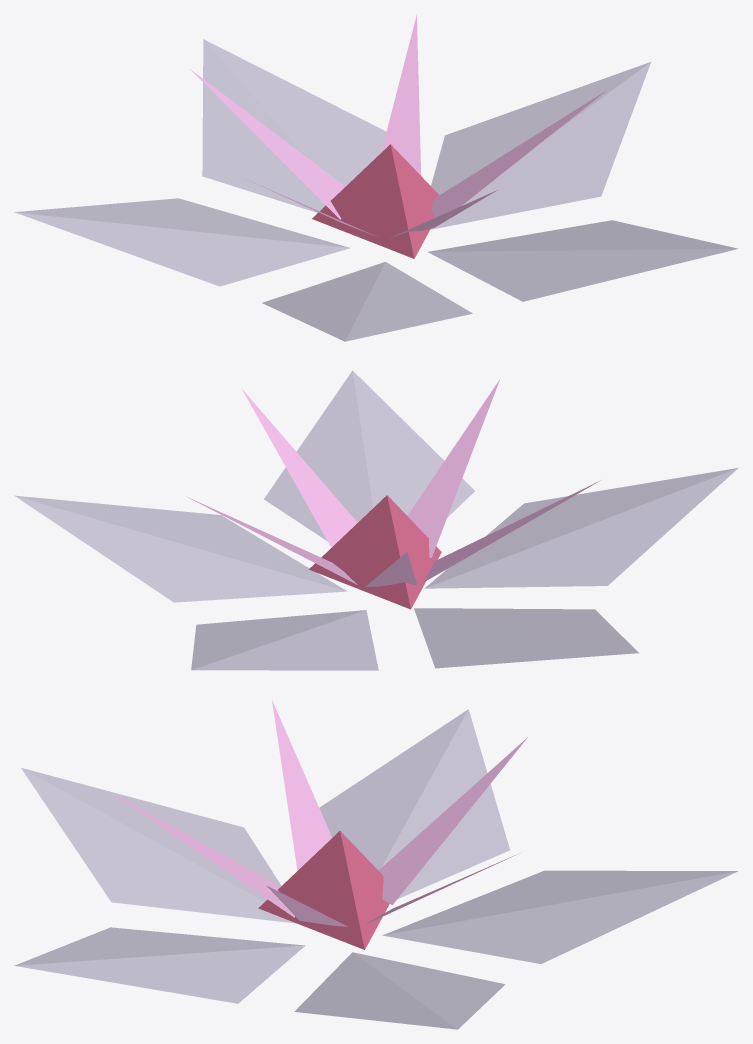
Rendered from plant_lotus_a.obj.
The picture shows the model from 3 angles, top to bottom: view 1: azimuth 30°, elevation 25°; view 2: azimuth 150°, elevation 25°; view 3: azimuth 270°, elevation 25°; orthographic projection. The views are drawn at different scales.
Visible parts, largest first — view 1: plant_lotus_a_0, plant_lotus_a_5, plant_lotus_a_3, plant_lotus_a_8, plant_lotus_a_2, plant_lotus_a_15, plant_lotus_a_1, plant_lotus_a_4, plant_lotus_a_9, plant_lotus_a_7, plant_lotus_a_6, plant_lotus_a_10 (+3 smaller); view 2: plant_lotus_a_6, plant_lotus_a_1, plant_lotus_a_9, plant_lotus_a_0, plant_lotus_a_7, plant_lotus_a_15, plant_lotus_a_8, plant_lotus_a_4, plant_lotus_a_3, plant_lotus_a_5, plant_lotus_a_2, plant_lotus_a_13 (+4 smaller); view 3: plant_lotus_a_7, plant_lotus_a_2, plant_lotus_a_4, plant_lotus_a_5, plant_lotus_a_9, plant_lotus_a_15, plant_lotus_a_6, plant_lotus_a_3, plant_lotus_a_0, plant_lotus_a_8, plant_lotus_a_1, plant_lotus_a_11 (+3 smaller).
Boxes of the visible parts, x1=… form: plant_lotus_a_0: x1=430, y1=62, x2=650, y2=229; plant_lotus_a_5: x1=15, y1=212, x2=350, y2=286; plant_lotus_a_3: x1=202, y1=39, x2=325, y2=212; plant_lotus_a_8: x1=428, y1=248, x2=738, y2=301; plant_lotus_a_2: x1=203, y1=39, x2=386, y2=186; plant_lotus_a_15: x1=312, y1=144, x2=439, y2=258; plant_lotus_a_1: x1=431, y1=62, x2=650, y2=195; plant_lotus_a_4: x1=14, y1=198, x2=349, y2=247; plant_lotus_a_9: x1=428, y1=220, x2=737, y2=251; plant_lotus_a_7: x1=345, y1=262, x2=472, y2=341; plant_lotus_a_6: x1=262, y1=262, x2=385, y2=341; plant_lotus_a_10: x1=381, y1=14, x2=421, y2=175; plant_lotus_a_6: x1=425, y1=468, x2=738, y2=588; plant_lotus_a_1: x1=15, y1=496, x2=347, y2=602; plant_lotus_a_9: x1=264, y1=370, x2=372, y2=541; plant_lotus_a_0: x1=15, y1=495, x2=346, y2=590; plant_lotus_a_7: x1=424, y1=468, x2=737, y2=588; plant_lotus_a_15: x1=309, y1=495, x2=441, y2=609; plant_lotus_a_8: x1=352, y1=371, x2=474, y2=517; plant_lotus_a_4: x1=414, y1=608, x2=638, y2=668; plant_lotus_a_3: x1=192, y1=610, x2=378, y2=670; plant_lotus_a_5: x1=415, y1=608, x2=638, y2=652; plant_lotus_a_2: x1=191, y1=610, x2=365, y2=670; plant_lotus_a_13: x1=407, y1=379, x2=499, y2=557; plant_lotus_a_7: x1=21, y1=768, x2=295, y2=923; plant_lotus_a_2: x1=382, y1=871, x2=737, y2=963; plant_lotus_a_4: x1=381, y1=709, x2=509, y2=899; plant_lotus_a_5: x1=319, y1=709, x2=468, y2=870; plant_lotus_a_9: x1=14, y1=945, x2=304, y2=1003; plant_lotus_a_15: x1=258, y1=831, x2=389, y2=949; plant_lotus_a_6: x1=22, y1=768, x2=281, y2=901; plant_lotus_a_3: x1=383, y1=870, x2=737, y2=935; plant_lotus_a_0: x1=294, y1=952, x2=457, y2=1029; plant_lotus_a_8: x1=15, y1=927, x2=305, y2=965; plant_lotus_a_1: x1=353, y1=952, x2=505, y2=1029; plant_lotus_a_11: x1=378, y1=737, x2=527, y2=904.
Bounding box in the file's own units: 0.7227 × 0.15 × 0.6906.
